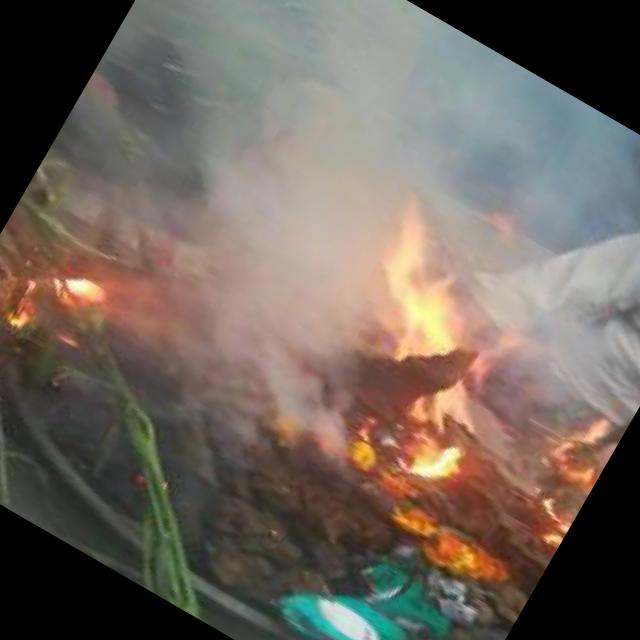fire: (307, 189, 556, 451), (0, 225, 123, 369), (506, 415, 619, 557), (394, 423, 474, 508)
smoke: (111, 0, 640, 343), (96, 105, 411, 431), (8, 43, 220, 284)
